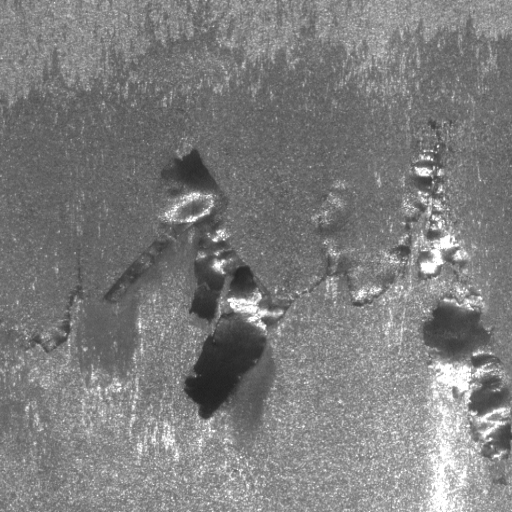qiaopi: (403, 130, 510, 482), (152, 153, 289, 427)
